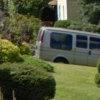Tree: (4, 42, 78, 100)
